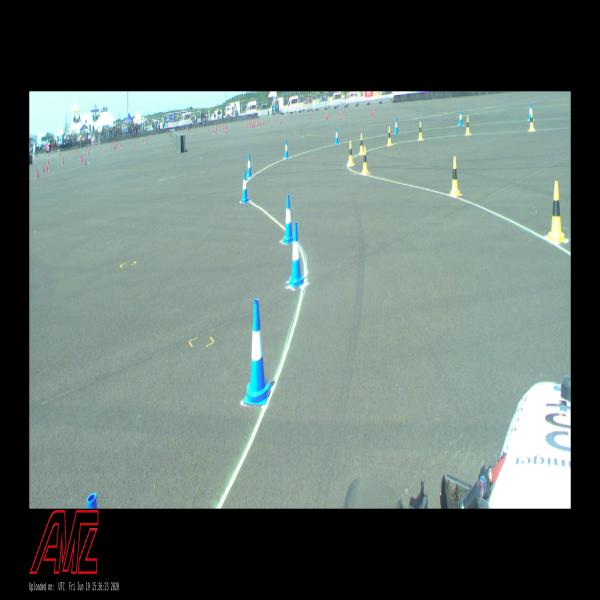blue_cone: (243, 298, 272, 406), (289, 222, 304, 288), (283, 194, 294, 245), (75, 496, 108, 508), (241, 170, 249, 204), (247, 154, 252, 177), (284, 140, 289, 159), (528, 103, 533, 121), (458, 110, 463, 127), (335, 128, 338, 145), (395, 118, 398, 134)
yellow_cone: (547, 181, 565, 243), (450, 156, 460, 197), (361, 146, 368, 175), (347, 140, 354, 167), (358, 133, 364, 155), (529, 111, 535, 131), (387, 126, 392, 146), (418, 121, 423, 140), (466, 115, 470, 135)
